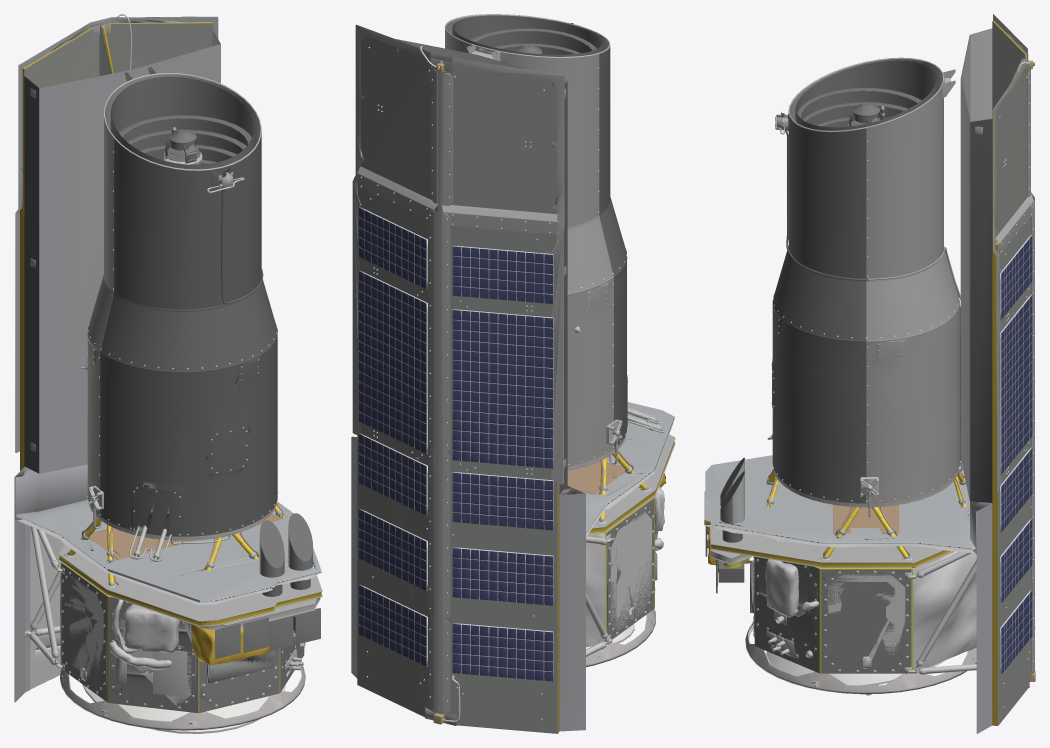
Rendered from spitzer.glb.
3 renders of one model, left to right at view 1: azimuth 30°, elevation 25°; view 2: azimuth 150°, elevation 25°; view 3: azimuth 270°, elevation 25°, orthographic. The views are drawn at different scales.
Parts seen in each view (by area): view 1: Fake; view 2: Fake; view 3: Fake.
Boxes of the visible parts, <box> form: Fake: <box>14,14,322,733</box>; Fake: <box>351,14,675,733</box>; Fake: <box>704,14,1035,733</box>.
Bounding box in the file's own units: 1.62 × 4.49 × 2.11.
1 material, 1 textured.
